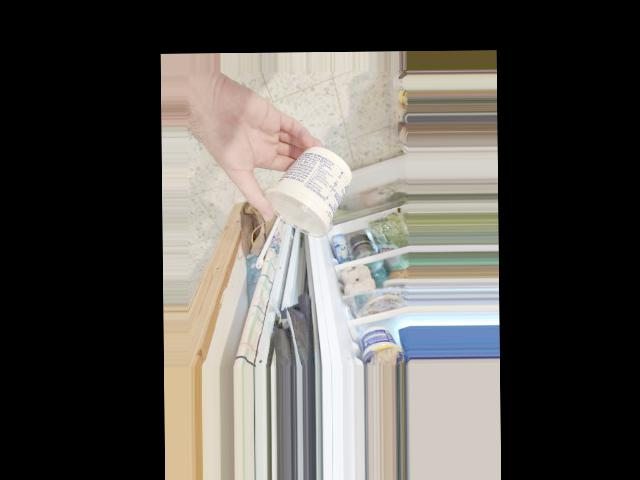cotage: (257, 148, 342, 226)
